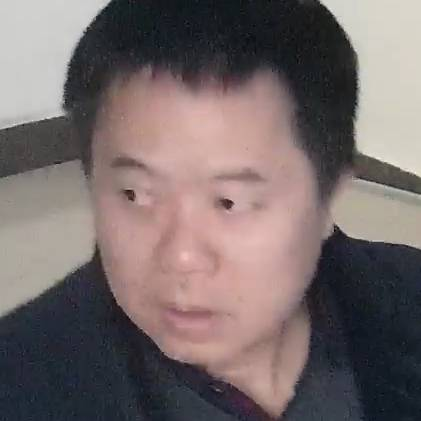caibo: (71, 53, 340, 367)
